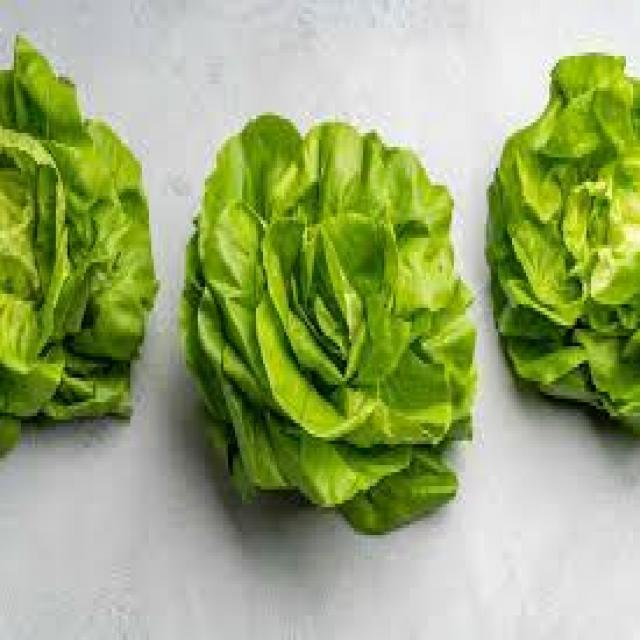Lettuce: (179, 114, 476, 536), (0, 30, 162, 465), (486, 53, 640, 437)
